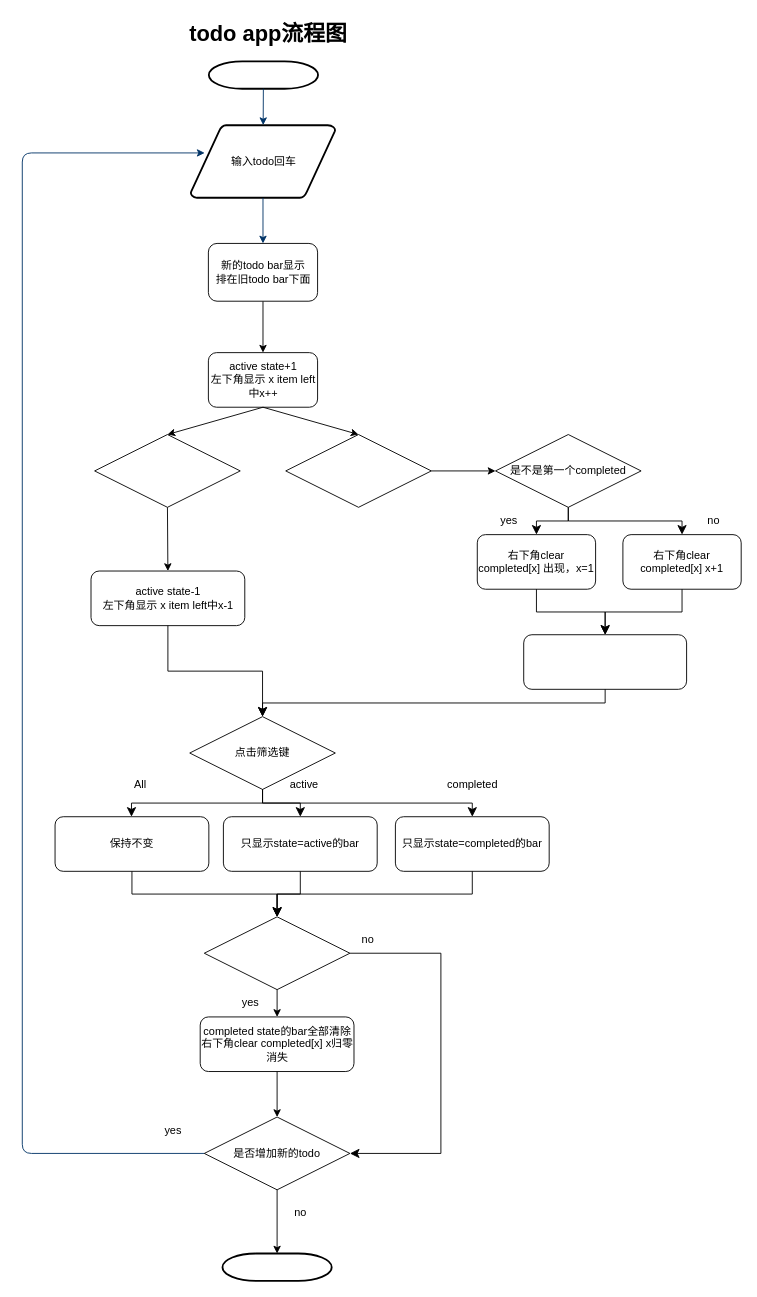
Image size: 757x1297. Some labels were removed from this diagram. The shapes that lost their labels are listed below. From the top down, each one's centre as x and y in pixels, then its label:
At point (262, 74): "start".
At point (167, 470): "删除该todo".
At point (358, 470): "完成该todo".
At point (605, 661): "active state-1 completed state+1 左下角显示 x item left中x-1".
At point (276, 953): "是否点击clear completed".
At point (276, 1266): "end".
